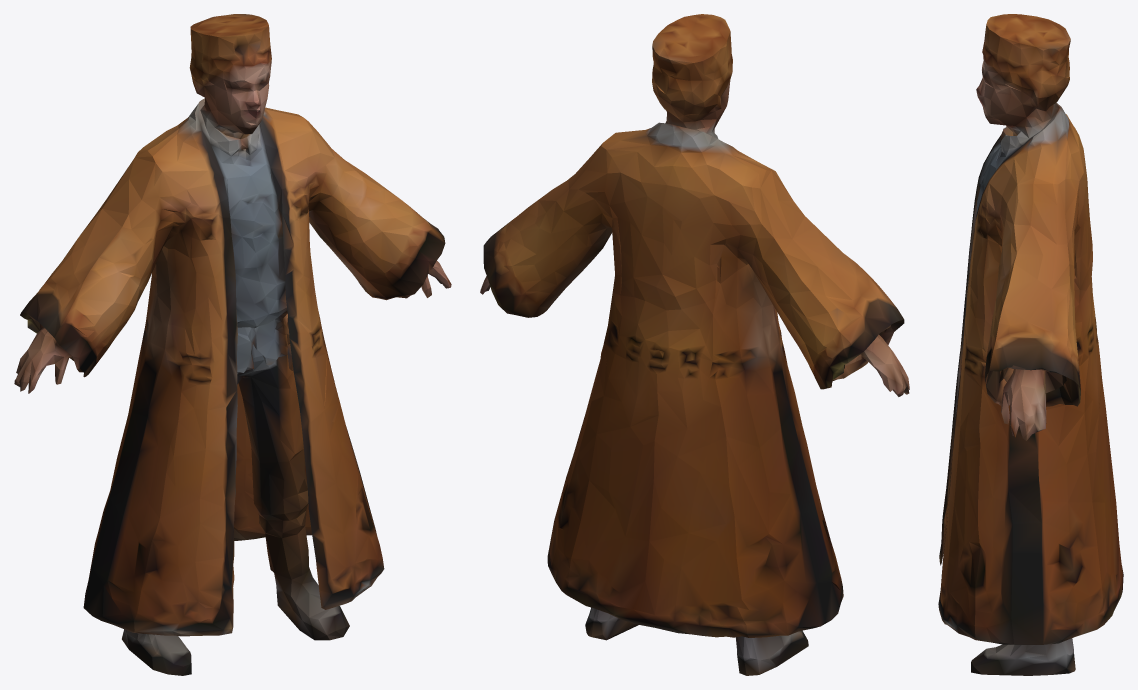
File: lib_ong_lao.vc.glb
3 renders of one model, left to right at view 1: azimuth 30°, elevation 25°; view 2: azimuth 150°, elevation 25°; view 3: azimuth 270°, elevation 25°, orthographic.
Visible parts, largest first — view 1: lib_ong_lao; view 2: lib_ong_lao; view 3: lib_ong_lao.
Boxes of the visible parts, x1,y1,x2,y2 form: lib_ong_lao: (14, 14, 451, 675); lib_ong_lao: (480, 14, 909, 675); lib_ong_lao: (938, 14, 1123, 675).
Size of the model in its own units: 0.0119 by 0.0165 by 0.00451.
